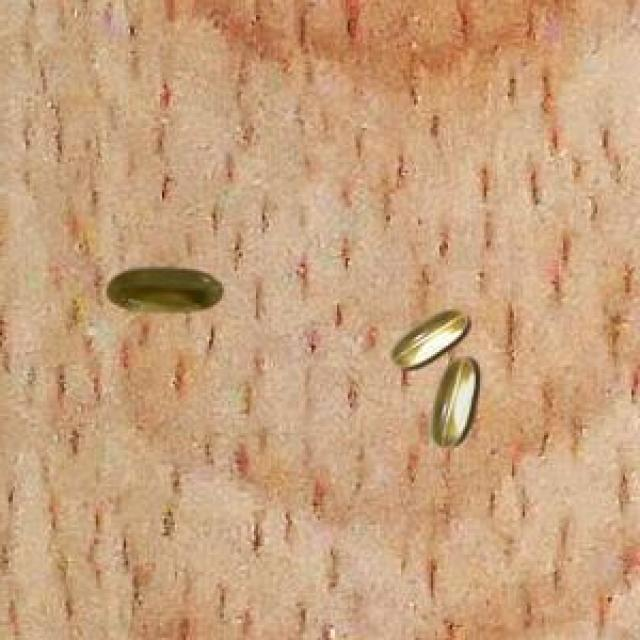Fish_Oil: (386, 304, 484, 464), (99, 251, 237, 336)
